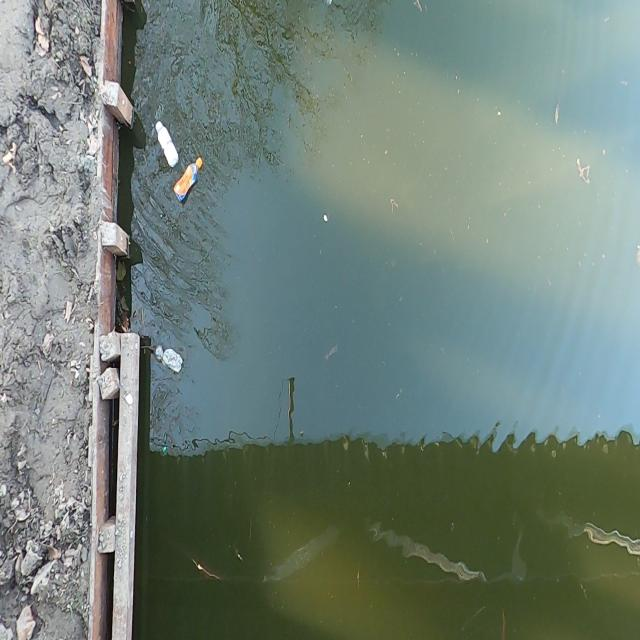Bouteille plastique: (174, 157, 203, 203), (155, 120, 177, 166), (156, 347, 182, 371)
